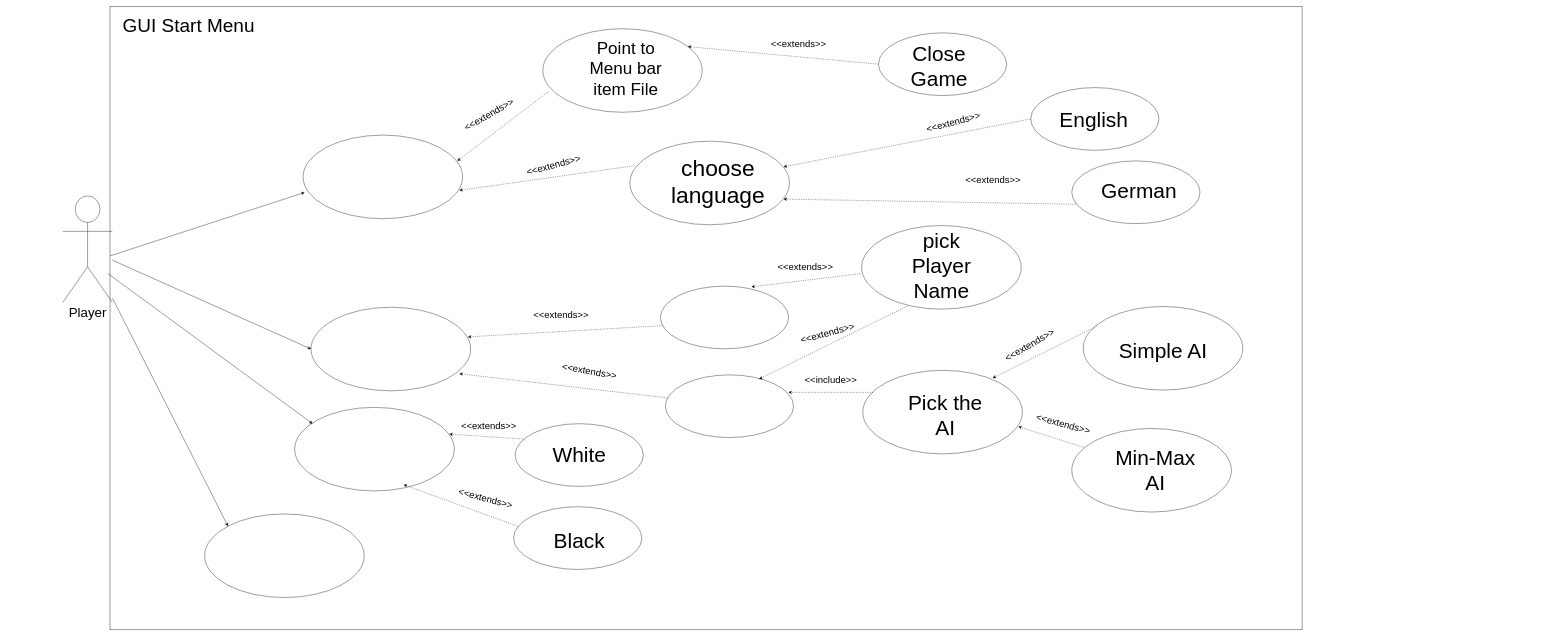
This 1544x637 diagram has some shape labels left out. Here are the shapes that lost their labels. From the top down, the centre of each, then its label:
At pixel 383 177: "Access Menu bar".
At pixel 724 317: "Player vs Player".
At pixel 391 349: "choose Game Mode".
At pixel 729 406: "Player vs CPU".
At pixel 374 449: "Pick a color for the 1st Player".
At pixel 284 556: "Start Game".
